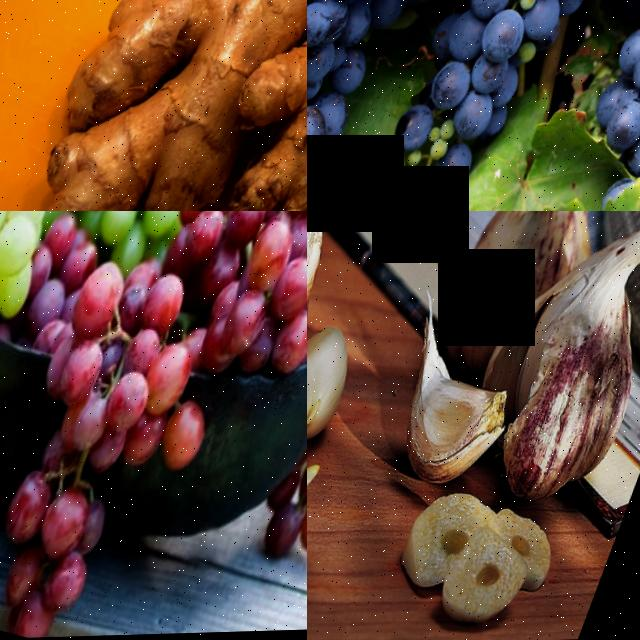garlic: (387, 361, 523, 494)
ginger: (4, 0, 307, 211)
grapes: (0, 253, 264, 640), (376, 0, 640, 211), (307, 0, 508, 211), (0, 211, 77, 598), (138, 211, 307, 382)
